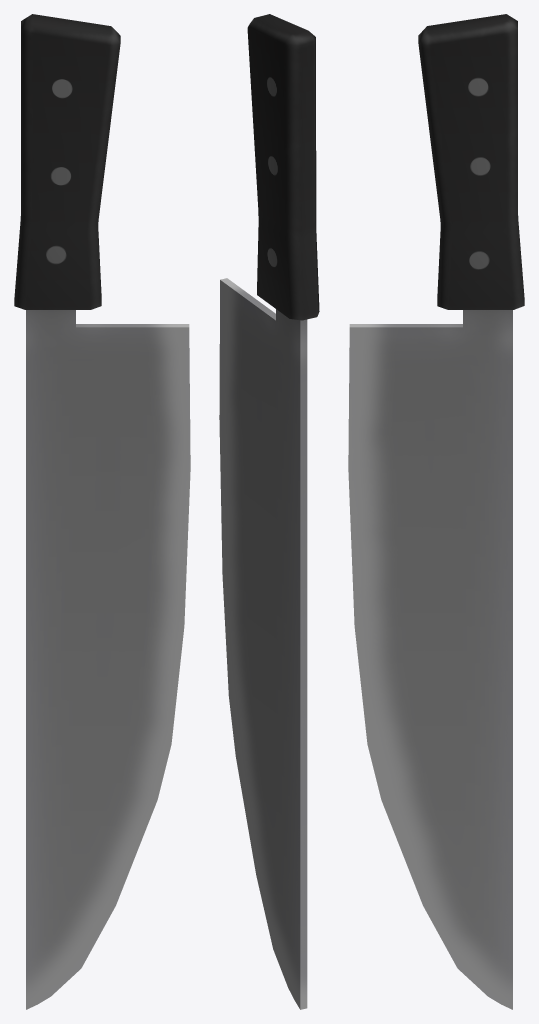
File: knife.fbx
3 renders of one model, left to right at view 1: azimuth 90°, elevation 25°; view 2: azimuth 210°, elevation 25°; view 3: azimuth 270°, elevation 25°, orthographic.
Visible parts, largest first — view 1: knife; view 2: knife; view 3: knife.
Boxes of the visible parts, x1,y1,x2,y2 form: knife: [14, 14, 190, 1009]; knife: [219, 14, 319, 1009]; knife: [348, 14, 524, 1009].
Bounding box in the file's own units: 0.0436 × 1.35 × 0.2181.
